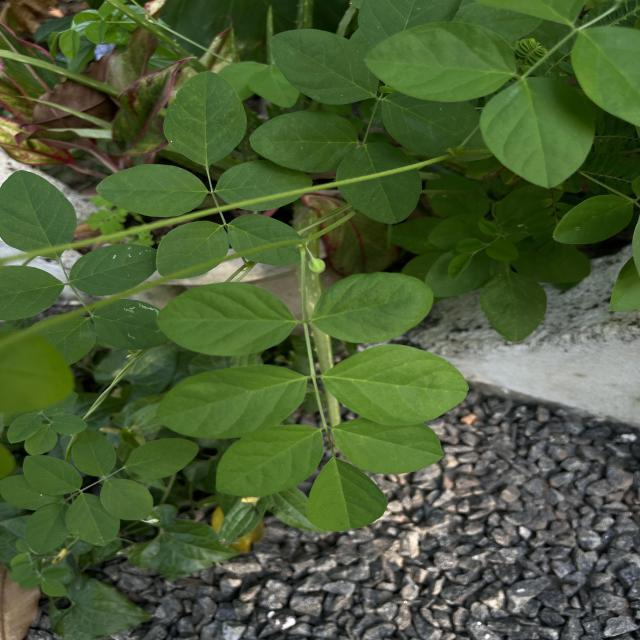Clitoria ternatea: (318, 344, 470, 426), (156, 362, 308, 440), (156, 281, 300, 357), (310, 270, 434, 344), (214, 424, 326, 498), (330, 418, 445, 474), (305, 458, 388, 532), (68, 243, 156, 297), (156, 220, 230, 280)
